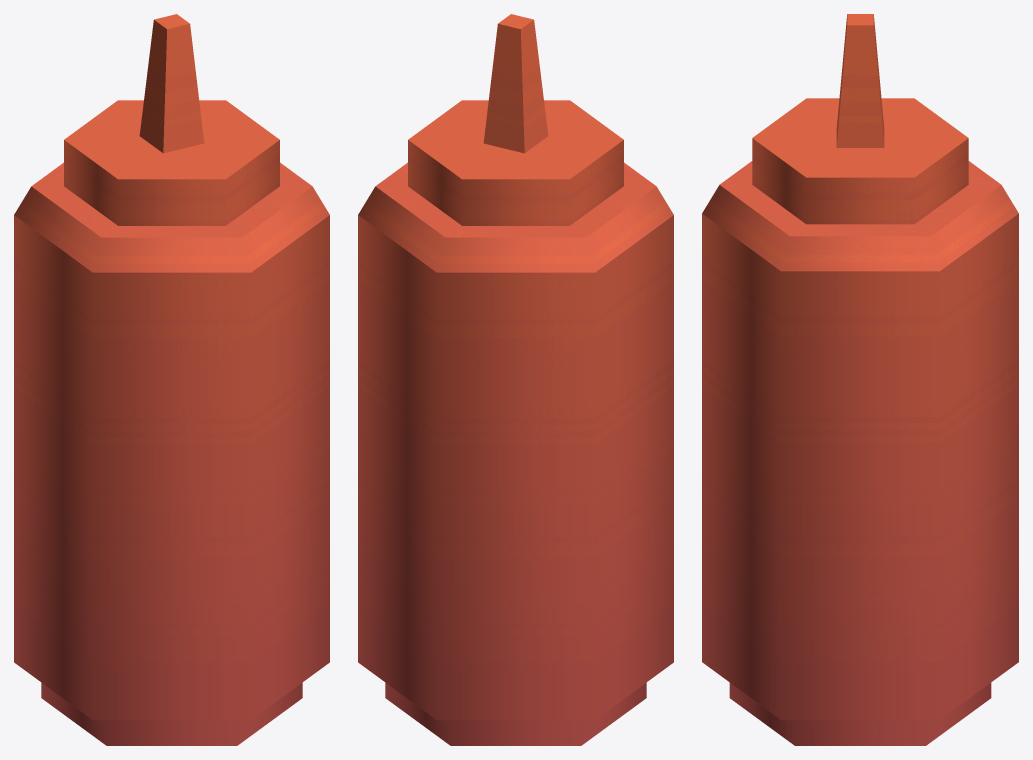
Rendered from bottle-ketchup.glb.
3 views of the same model, side by side, from view 1: azimuth 30°, elevation 25°; view 2: azimuth 150°, elevation 25°; view 3: azimuth 270°, elevation 25° (orthographic).
Parts seen in each view (by area): view 1: bottle-ketchup; view 2: bottle-ketchup; view 3: bottle-ketchup.
Boxes of the visible parts, x1,y1,x2,y2 form: bottle-ketchup: [14, 14, 329, 745]; bottle-ketchup: [358, 14, 673, 745]; bottle-ketchup: [702, 14, 1018, 745].
Size of the model in its own units: 0.1441 by 0.3931 by 0.1664.
1 material, 1 textured.
